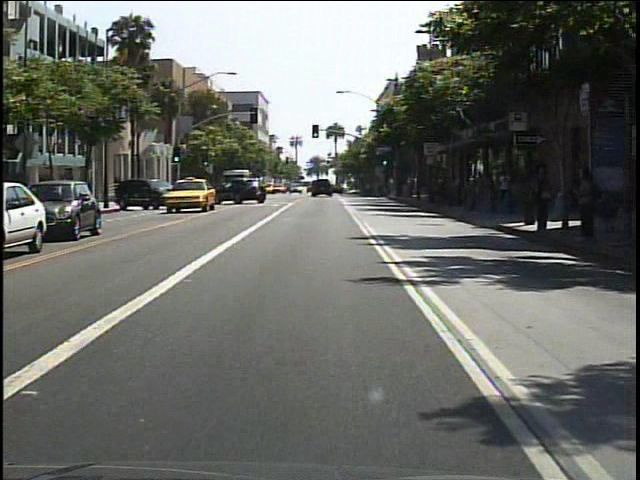person: (568, 166, 602, 244), (523, 160, 555, 238), (493, 167, 512, 211)
